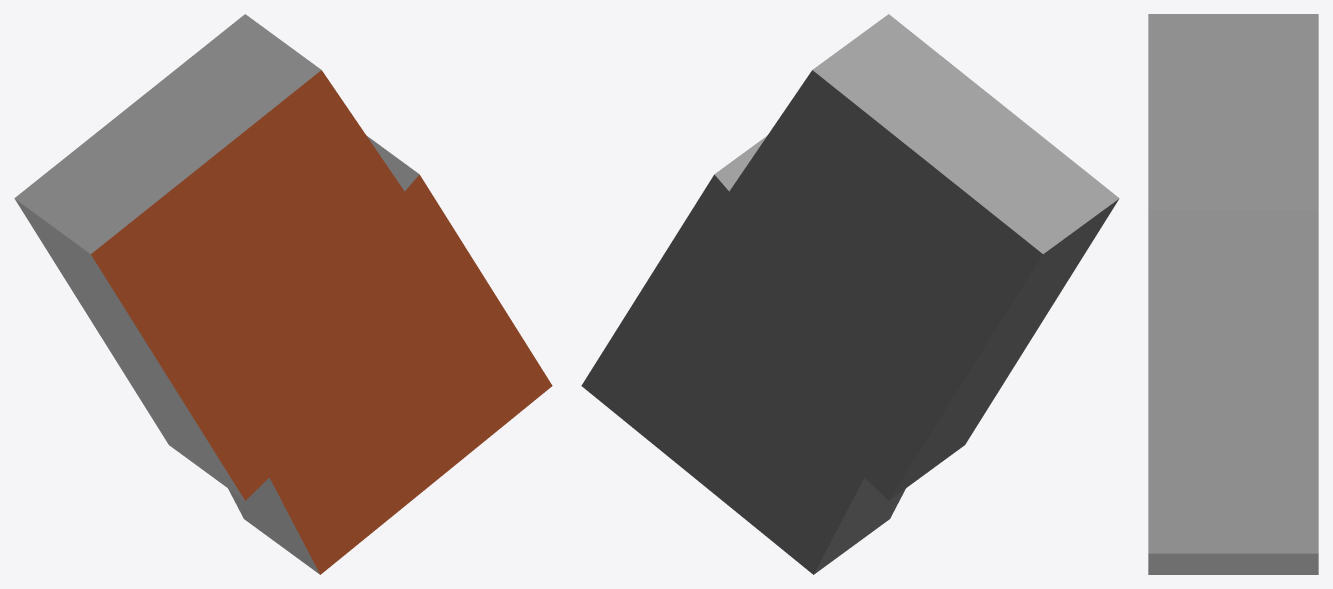
File: construction_4676_assumed_A_Casa_h6m.obj
3 views of the same model, side by side, from view 1: azimuth 30°, elevation 25°; view 2: azimuth 150°, elevation 25°; view 3: azimuth 270°, elevation 25° (orthographic). The views are drawn at different scales.
Parts seen in each view (by area): view 1: construction_4676_assumed_A_Casa; view 2: construction_4676_assumed_A_Casa; view 3: construction_4676_assumed_A_Casa.
Boxes of the visible parts, left/top/right/bottom form: construction_4676_assumed_A_Casa: left=14, top=14, right=552, bottom=574; construction_4676_assumed_A_Casa: left=581, top=14, right=1119, bottom=574; construction_4676_assumed_A_Casa: left=1148, top=14, right=1318, bottom=574.
Bounding box in the file's own units: 20.92 × 21.85 × 6.
